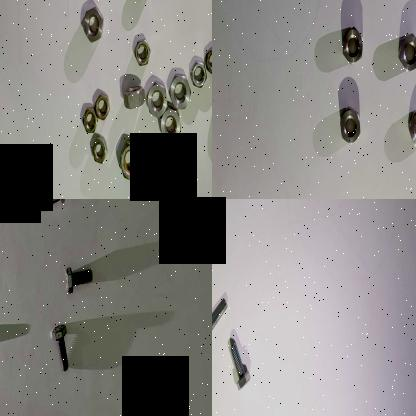Bolts: (60, 256, 95, 298), (226, 337, 252, 393), (46, 316, 70, 372), (212, 290, 227, 344), (32, 199, 66, 215)
NUTS: (156, 99, 184, 145), (78, 3, 106, 42), (337, 104, 363, 146), (118, 139, 143, 182), (166, 71, 192, 111), (338, 24, 364, 64), (144, 76, 168, 116), (395, 28, 416, 72), (118, 82, 146, 110), (79, 102, 100, 136), (88, 134, 110, 164), (133, 32, 151, 68), (94, 90, 112, 124), (188, 58, 206, 90), (406, 101, 416, 150), (202, 42, 212, 77)
